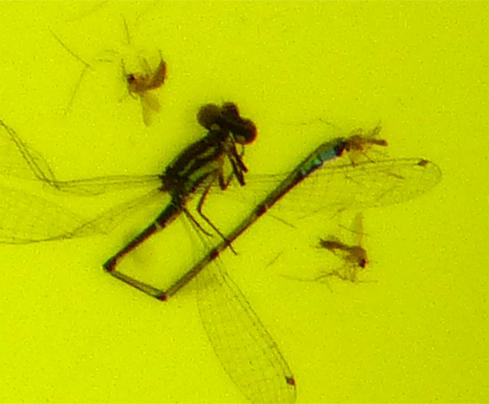Nematocera: (316, 233, 370, 283), (123, 57, 172, 97), (340, 131, 391, 164)
Odonata: (100, 100, 389, 304)
